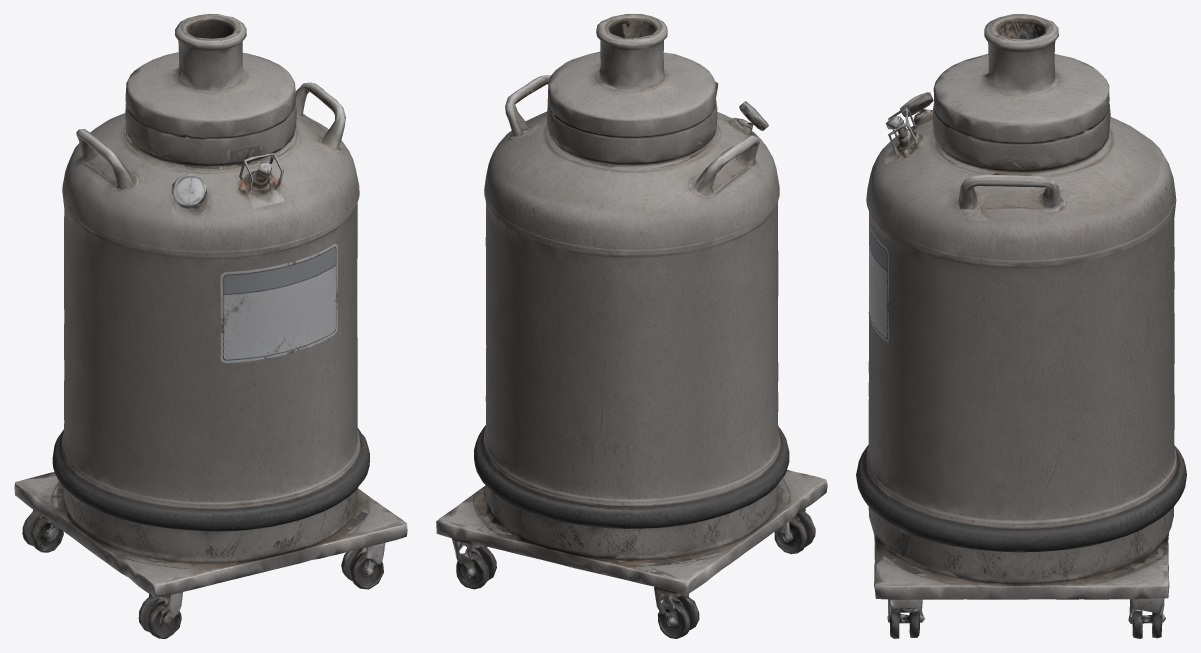
File: B3_CryogenicDewar.glb
The picture shows the model from 3 angles, left to right: view 1: azimuth 30°, elevation 25°; view 2: azimuth 150°, elevation 25°; view 3: azimuth 270°, elevation 25°; orthographic projection. The views are drawn at different scales.
Visible parts, largest first — view 1: texture_mapping; view 2: texture_mapping; view 3: texture_mapping.
Part boxes in pixels (x1,y1,x2,y2): texture_mapping: (14,14,407,638); texture_mapping: (436,14,827,638); texture_mapping: (856,14,1186,638).
Size of the model in its own units: 0.5362 by 1 by 0.5352.
Materials: 1 (1 with a texture image).
